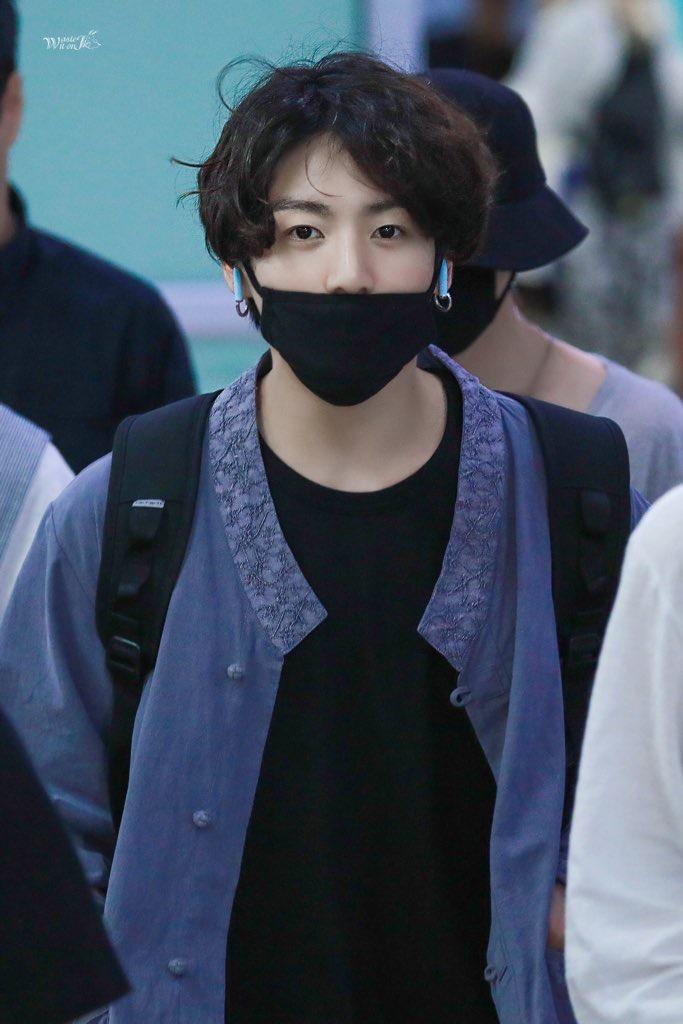earphone: (423, 253, 465, 314), (218, 255, 247, 306)
